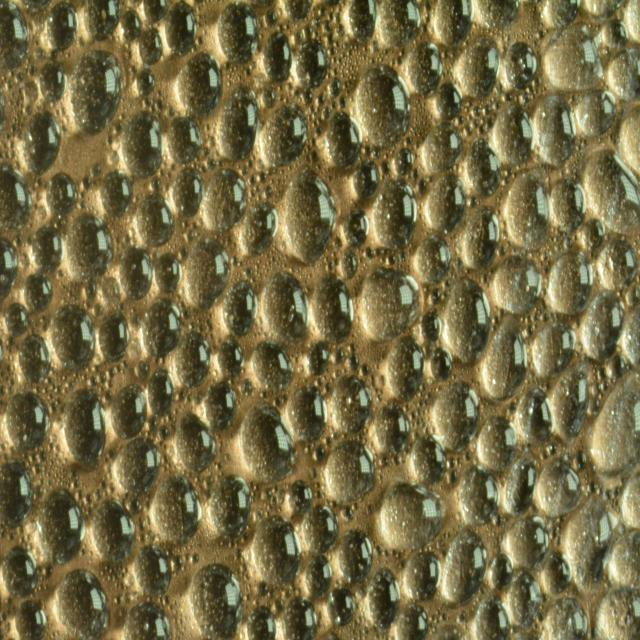dr: (282, 165, 338, 266), (589, 368, 640, 475), (562, 494, 618, 591), (581, 147, 640, 232), (379, 480, 447, 552), (238, 401, 298, 482), (359, 266, 422, 342), (542, 19, 604, 93), (70, 48, 123, 134), (441, 276, 492, 364), (189, 560, 245, 640), (354, 69, 410, 148), (53, 567, 111, 640), (439, 528, 489, 607), (481, 321, 527, 404), (150, 474, 202, 547), (504, 168, 550, 249), (214, 84, 261, 163), (40, 486, 86, 565), (252, 515, 302, 587), (580, 286, 626, 364), (62, 388, 106, 469), (262, 271, 310, 342), (183, 236, 231, 307), (550, 364, 592, 444), (50, 302, 97, 373), (258, 103, 308, 169), (433, 381, 480, 451), (200, 167, 249, 234), (65, 214, 113, 282), (373, 177, 418, 248), (534, 94, 578, 165), (324, 439, 376, 499), (493, 254, 542, 316), (92, 498, 136, 566), (548, 251, 592, 319), (312, 273, 354, 343), (536, 457, 584, 518), (121, 111, 164, 178), (459, 206, 501, 274), (177, 52, 223, 114), (208, 474, 252, 538), (6, 391, 52, 452), (456, 37, 500, 100), (329, 372, 372, 436), (113, 438, 162, 494), (424, 172, 468, 234), (385, 333, 425, 399), (217, 1, 258, 65), (531, 320, 576, 378), (493, 101, 533, 166), (287, 385, 329, 446), (502, 517, 550, 570), (176, 412, 217, 474), (597, 230, 638, 291), (536, 594, 590, 640), (476, 414, 517, 474), (142, 297, 182, 358), (23, 110, 61, 174), (249, 338, 294, 392), (459, 465, 499, 524), (464, 136, 502, 198), (0, 457, 34, 525), (134, 192, 175, 248), (325, 110, 362, 172), (239, 198, 277, 258), (0, 163, 33, 232), (174, 328, 211, 388), (372, 402, 412, 457), (378, 0, 422, 50), (516, 385, 552, 446), (597, 588, 640, 639), (548, 176, 587, 232), (575, 84, 617, 136), (0, 0, 29, 75), (421, 122, 462, 173), (110, 383, 147, 438), (223, 280, 258, 338), (406, 38, 442, 94), (502, 456, 536, 515), (337, 528, 373, 583), (134, 544, 172, 596), (433, 0, 475, 47), (368, 568, 400, 629), (415, 233, 452, 284), (123, 602, 172, 640), (403, 552, 441, 601), (509, 573, 542, 629), (118, 246, 152, 300), (411, 434, 447, 485), (2, 544, 37, 596), (172, 164, 205, 219), (165, 1, 198, 56), (98, 307, 130, 363), (303, 505, 339, 554), (204, 379, 237, 432), (295, 37, 328, 90), (99, 169, 133, 220), (504, 40, 538, 91), (607, 52, 640, 104), (168, 114, 202, 164), (82, 0, 123, 41), (281, 596, 318, 640), (474, 594, 509, 640), (46, 1, 78, 51), (46, 173, 80, 220), (19, 334, 50, 385), (343, 0, 379, 41), (32, 225, 63, 272), (541, 549, 572, 596), (264, 31, 292, 82), (147, 367, 174, 416), (16, 598, 47, 640), (0, 237, 20, 302), (393, 603, 428, 640), (39, 59, 66, 106), (216, 336, 246, 378), (154, 252, 182, 296), (327, 582, 355, 626), (24, 270, 53, 312), (246, 603, 277, 640), (353, 159, 380, 201), (433, 81, 462, 120), (305, 556, 332, 597), (487, 554, 515, 592), (343, 206, 369, 246), (285, 479, 313, 516), (138, 27, 164, 64), (5, 302, 30, 338), (308, 340, 330, 376), (431, 346, 453, 382), (584, 217, 606, 253), (430, 347, 452, 382), (420, 310, 442, 343), (136, 67, 157, 99), (394, 146, 415, 177), (120, 11, 142, 39), (339, 250, 358, 279), (326, 75, 344, 98), (262, 82, 277, 109)
